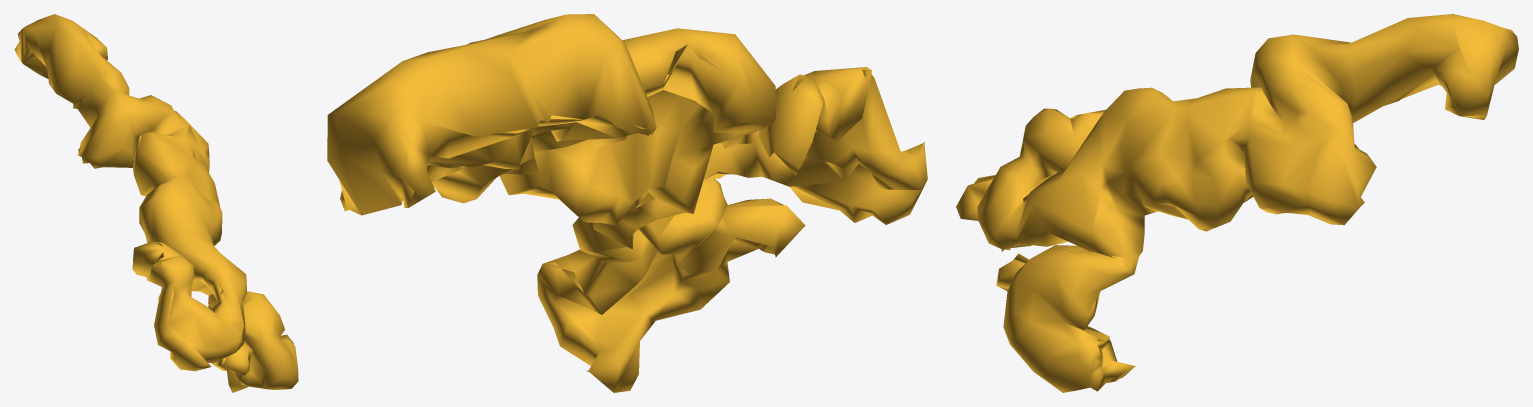
File: nervoso-middle-frontal-gyrus-l.glb
3 renders of one model, left to right at view 1: azimuth 30°, elevation 25°; view 2: azimuth 150°, elevation 25°; view 3: azimuth 270°, elevation 25°, orthographic. The views are drawn at different scales.
Visible parts, largest first — view 1: Middle frontal gyrus.l; view 2: Middle frontal gyrus.l; view 3: Middle frontal gyrus.l.
Part boxes in pixels (left/top/right/bottom): Middle frontal gyrus.l: left=14, top=14, right=298, bottom=392; Middle frontal gyrus.l: left=327, top=14, right=927, bottom=392; Middle frontal gyrus.l: left=956, top=14, right=1518, bottom=392.
Bounding box in the file's own units: 0.0393 × 0.0615 × 0.091.
